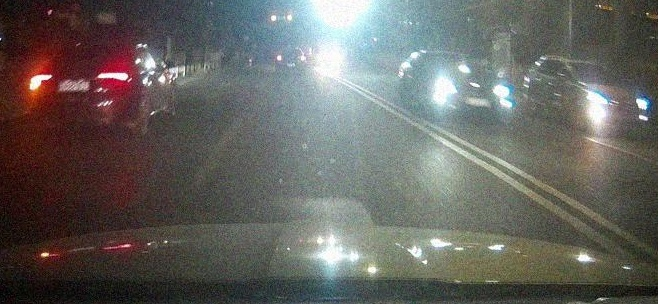L_light: (29, 74, 52, 90)
R_light: (97, 72, 130, 87)
T_light: (89, 50, 106, 56)
night-left: (28, 43, 135, 136)
